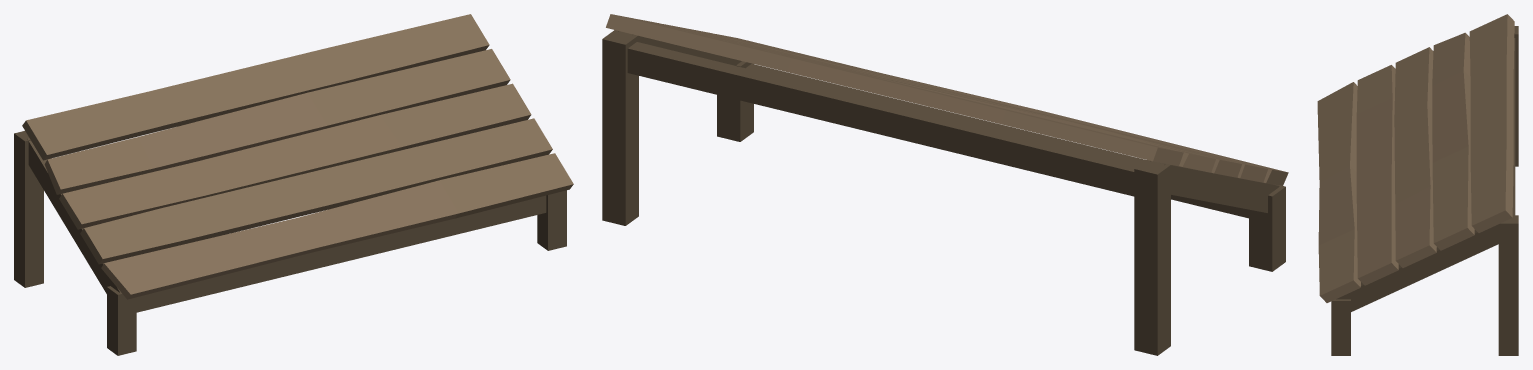
Rendered from market_table_e.FBX.
3 renders of one model, left to right at view 1: azimuth 30°, elevation 25°; view 2: azimuth 150°, elevation 25°; view 3: azimuth 270°, elevation 25°, orthographic. The views are drawn at different scales.
Visible parts, largest first — view 1: market_table_e; view 2: market_table_e; view 3: market_table_e.
Boxes of the visible parts, x1,y1,x2,y2 form: market_table_e: (14, 14, 573, 355); market_table_e: (602, 14, 1288, 355); market_table_e: (1317, 14, 1518, 355).
Size of the model in its own units: 2.38 by 0.8209 by 1.02.
